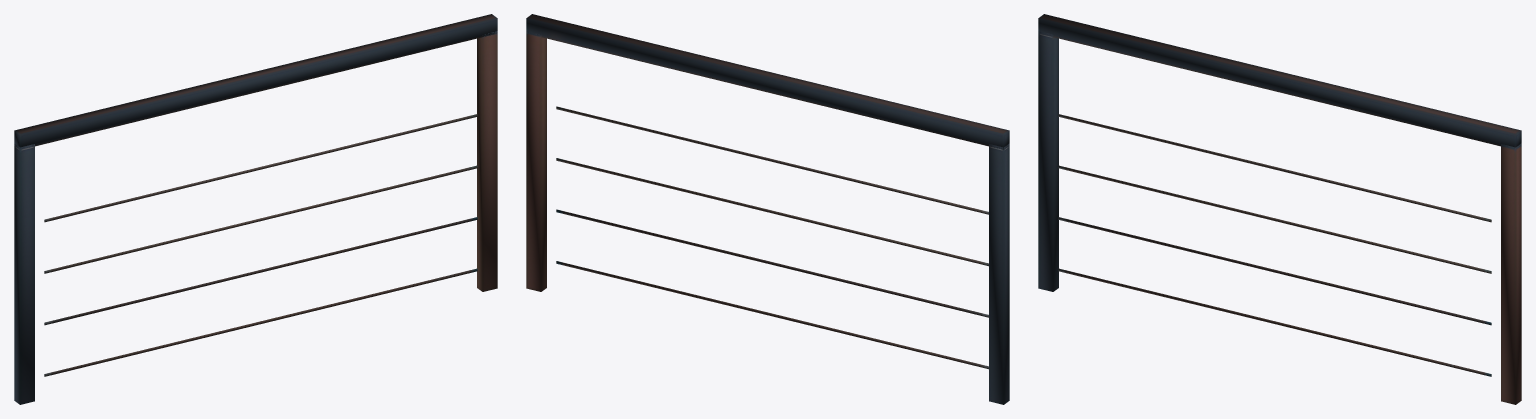
Rendered from dock-door-frame-tripo-original.glb.
The picture shows the model from 3 angles, left to right: view 1: azimuth 30°, elevation 25°; view 2: azimuth 150°, elevation 25°; view 3: azimuth 330°, elevation 25°; orthographic projection.
Parts seen in each view (by area): view 1: Authored_surface_041; view 2: Authored_surface_041; view 3: Authored_surface_041.
Part boxes in pixels (bbox=[...]): Authored_surface_041: bbox=[14, 14, 497, 404]; Authored_surface_041: bbox=[526, 14, 1009, 404]; Authored_surface_041: bbox=[1038, 14, 1521, 404].
Bounding box in the file's own units: 1 × 0.5412 × 0.0294.
1 material, 1 textured.
